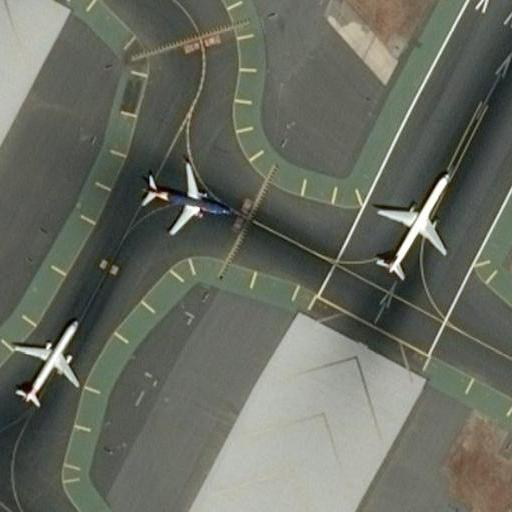Aircraft: (372, 172, 449, 277), (139, 157, 234, 234), (9, 313, 86, 407)
